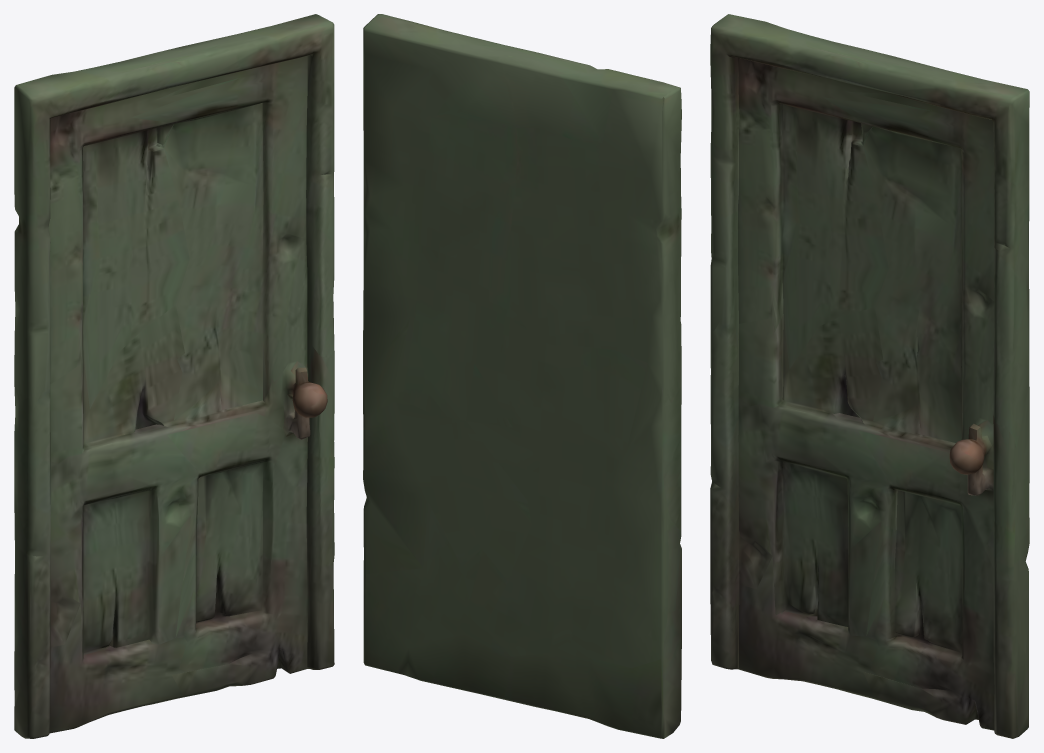
Rendered from door_9.glb.
The picture shows the model from 3 angles, left to right: view 1: azimuth 30°, elevation 25°; view 2: azimuth 150°, elevation 25°; view 3: azimuth 330°, elevation 25°; orthographic projection.
Parts seen in each view (by area): view 1: door; view 2: door; view 3: door.
Part boxes in pixels (x1,y1,x2,y2): door: (14,14,334,738); door: (363,14,681,738); door: (710,14,1029,738).
Bounding box in the file's own units: 1.04 × 2.1 × 0.2215.
Materials: 1 (1 with a texture image).
